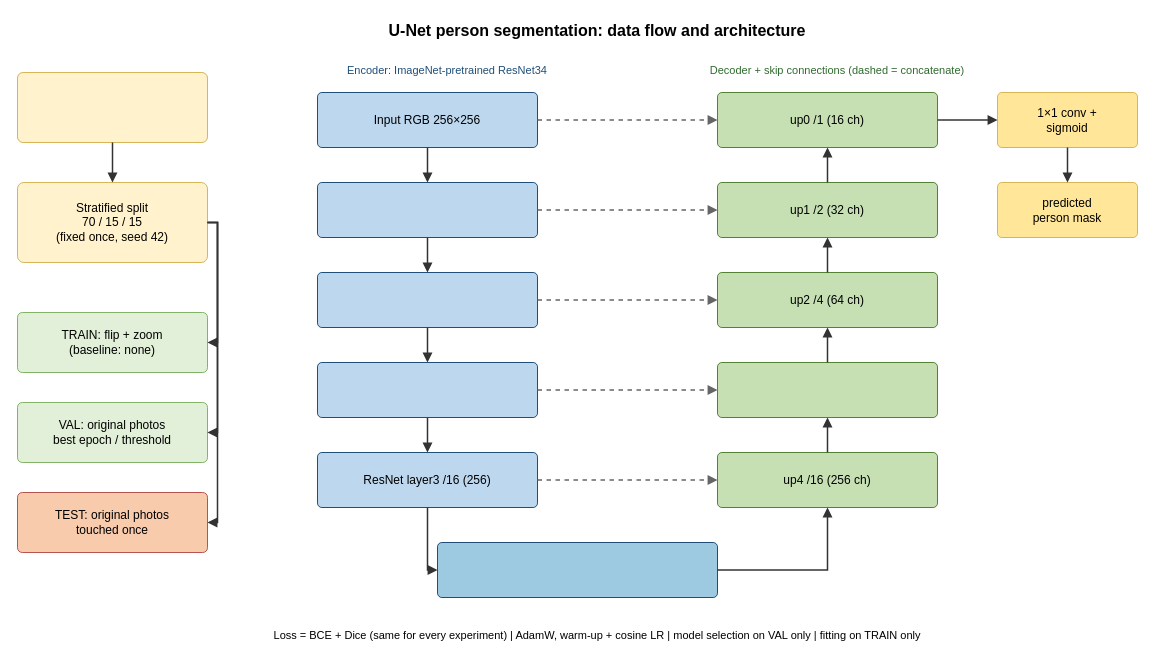
Some shapes in this 1155 by 665 pixel diagram are drawn without their labels. Each missing label, with the centre of its shape:
"Penn-Fudan photos + merged binary masks (resize 256×256)" belongs at (112,107).
"ResNet layer1 /4 (64)" belongs at (427,300).
"ResNet layer2 /8 (128)" belongs at (427,390).
"ResNet layer4 /32 (512) bottleneck" belongs at (577,570).
"Stem /2 (64)" belongs at (427,210).
"up3 /8 (128 ch)" belongs at (827,390).
